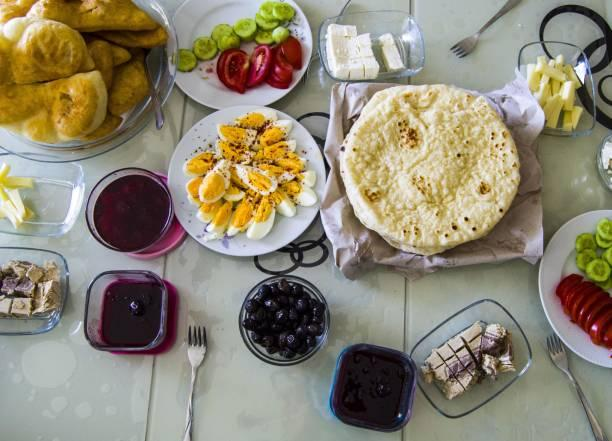Braised Crucian Carp: (317, 78, 537, 278), (5, 0, 175, 159), (166, 105, 321, 255), (169, 0, 310, 110)
